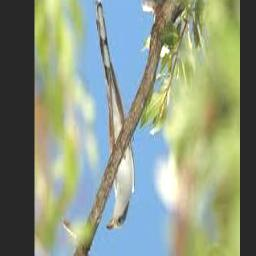Cuckoo: (95, 0, 135, 230)
